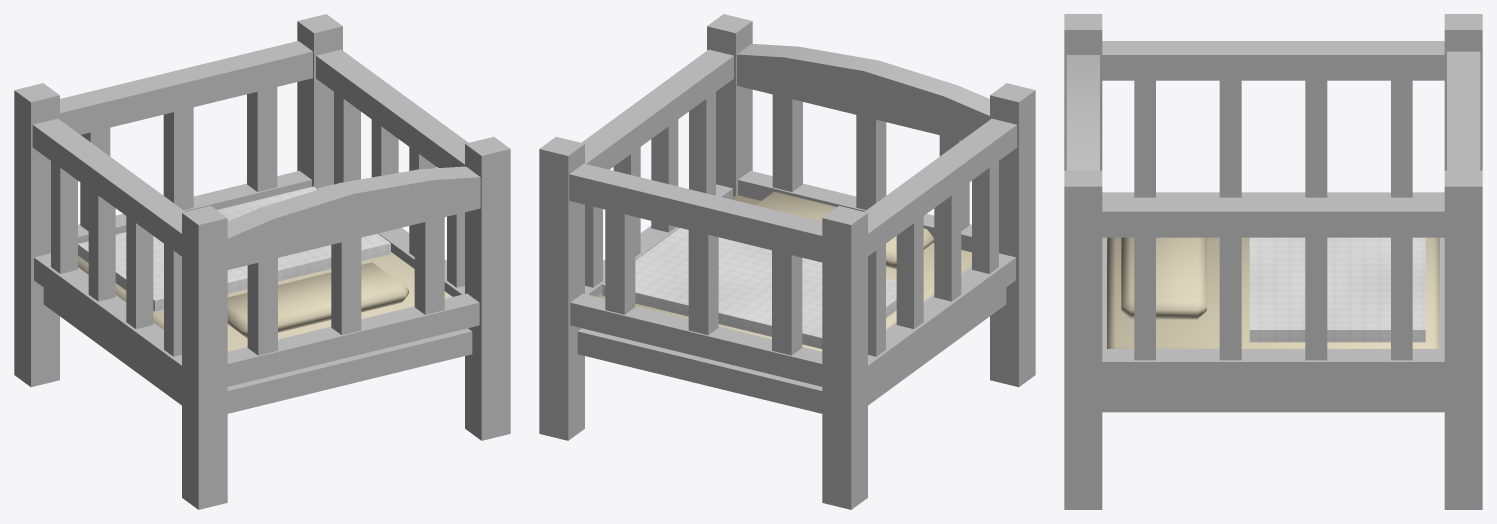
Rendered from crib.obj.
3 views of the same model, side by side, from view 1: azimuth 30°, elevation 25°; view 2: azimuth 150°, elevation 25°; view 3: azimuth 270°, elevation 25° (orthographic). The views are drawn at different scales.
Parts seen in each view (by area): view 1: source_component_028, source_component_000, source_component_002, source_component_001, source_component_029, source_component_004, source_component_020, source_component_009, source_component_015, source_component_003, source_component_008, source_component_007 (+17 smaller); view 2: source_component_001, source_component_028, source_component_003, source_component_006, source_component_000, source_component_029, source_component_004, source_component_024, source_component_009, source_component_015, source_component_002, source_component_008 (+18 smaller); view 3: source_component_006, source_component_015, source_component_009, source_component_002, source_component_003, source_component_014, source_component_004, source_component_005, source_component_007, source_component_029, source_component_028, source_component_017 (+10 smaller).
Part boxes in pixels (x1=…): source_component_028: x1=227, y1=166, x2=480, y2=269; source_component_000: x1=182, y1=206, x2=227, y2=509; source_component_002: x1=465, y1=136, x2=510, y2=440; source_component_001: x1=14, y1=83, x2=59, y2=387; source_component_029: x1=60, y1=41, x2=312, y2=134; source_component_004: x1=43, y1=288, x2=472, y2=413; source_component_020: x1=227, y1=293, x2=479, y2=386; source_component_009: x1=32, y1=118, x2=185, y2=256; source_component_015: x1=316, y1=49, x2=468, y2=167; source_component_003: x1=297, y1=14, x2=342, y2=188; source_component_008: x1=34, y1=253, x2=181, y2=388; source_component_007: x1=227, y1=262, x2=408, y2=338; source_component_001: x1=822, y1=206, x2=867, y2=509; source_component_028: x1=737, y1=44, x2=989, y2=140; source_component_003: x1=539, y1=136, x2=584, y2=440; source_component_006: x1=602, y1=228, x2=896, y2=348; source_component_000: x1=990, y1=83, x2=1035, y2=387; source_component_029: x1=569, y1=163, x2=822, y2=262; source_component_004: x1=577, y1=288, x2=1006, y2=413; source_component_024: x1=570, y1=293, x2=822, y2=386; source_component_009: x1=864, y1=118, x2=1017, y2=256; source_component_015: x1=581, y1=49, x2=733, y2=169; source_component_002: x1=707, y1=14, x2=752, y2=197; source_component_008: x1=868, y1=253, x2=1015, y2=388; source_component_006: x1=1249, y1=237, x2=1425, y2=342; source_component_015: x1=1102, y1=197, x2=1444, y2=237; source_component_009: x1=1102, y1=41, x2=1444, y2=80; source_component_002: x1=1064, y1=170, x2=1102, y2=509; source_component_003: x1=1444, y1=170, x2=1482, y2=509; source_component_014: x1=1102, y1=349, x2=1444, y2=387; source_component_004: x1=1102, y1=237, x2=1444, y2=412; source_component_005: x1=1107, y1=237, x2=1439, y2=348; source_component_007: x1=1121, y1=237, x2=1206, y2=319; source_component_029: x1=1447, y1=51, x2=1480, y2=170; source_component_028: x1=1066, y1=55, x2=1099, y2=170; source_component_017: x1=1219, y1=237, x2=1241, y2=360.
Size of the model in its own units: 0.86 by 0.75 by 0.88.
